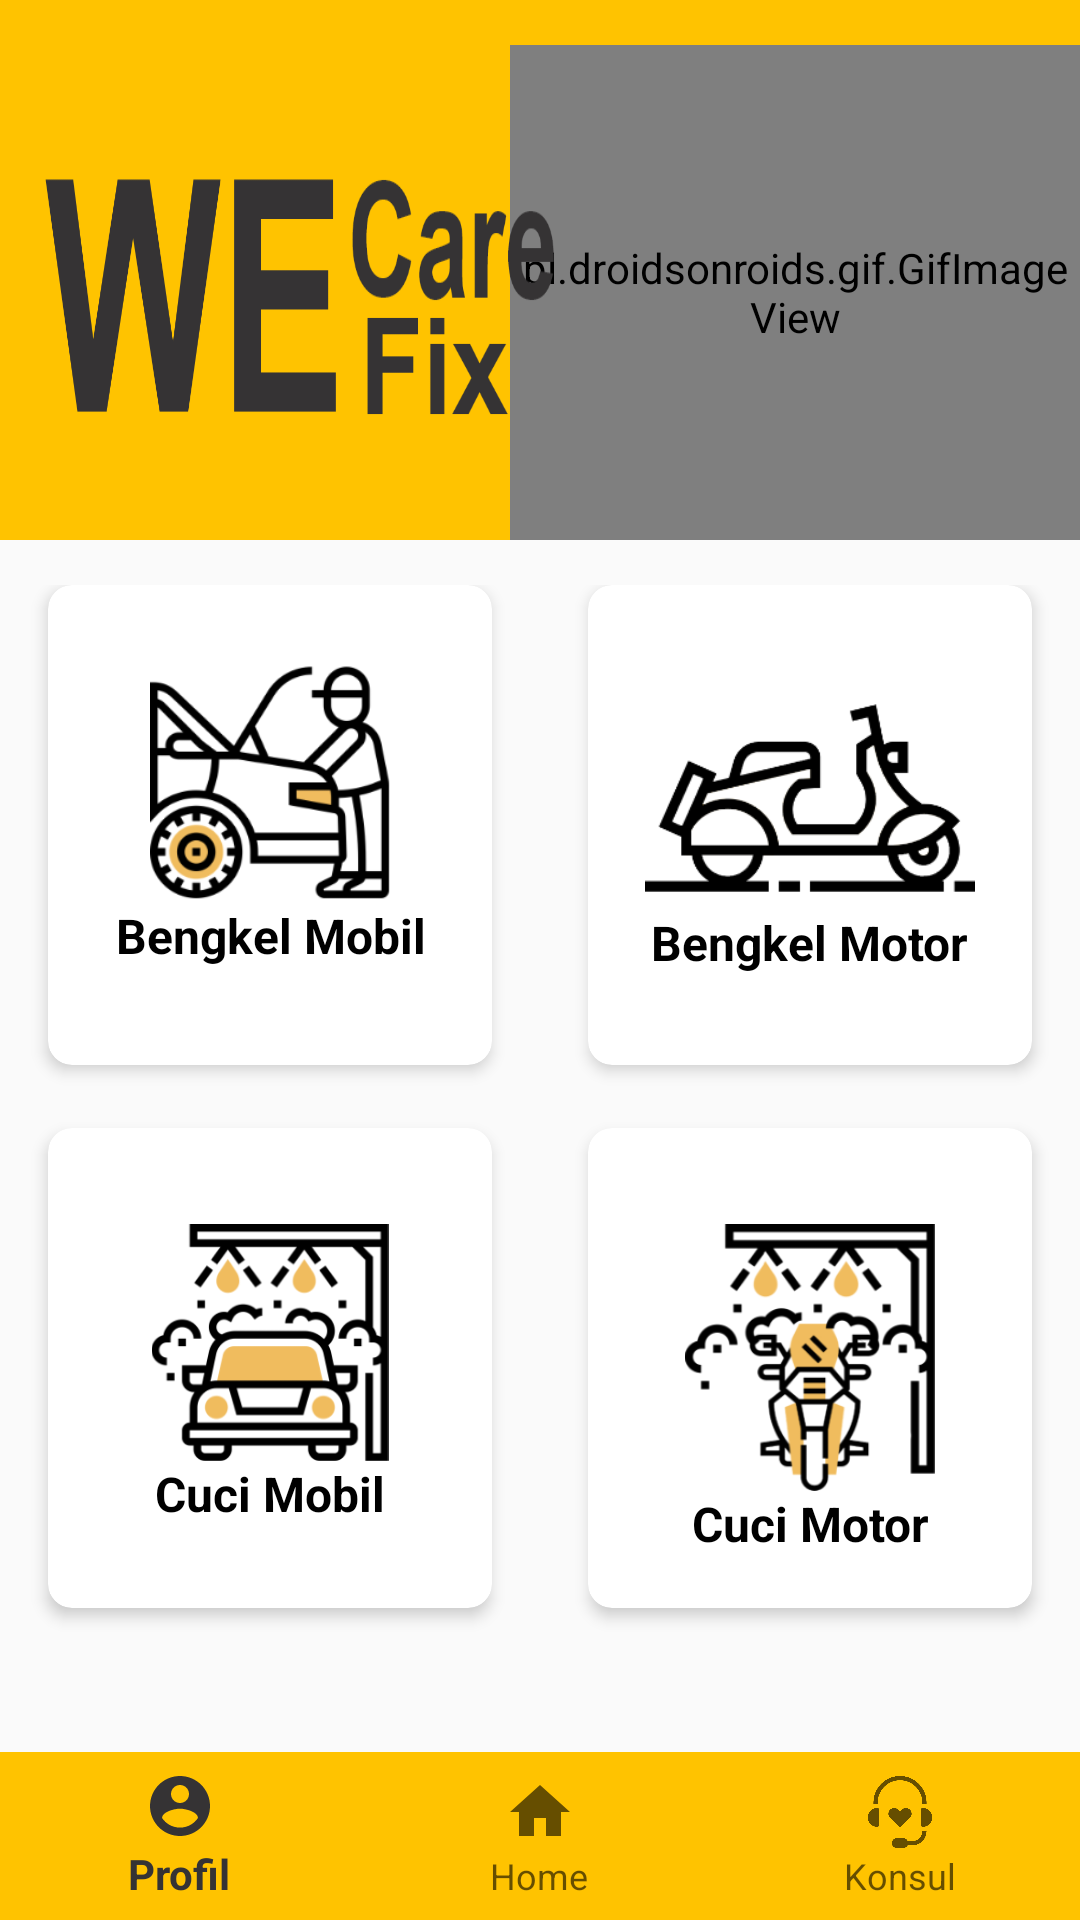

Screen size 1080px x 1920px. Icon name, then its box in pixels as (x1, y1, x2, y2):
maintenance: (150, 666, 390, 899)
